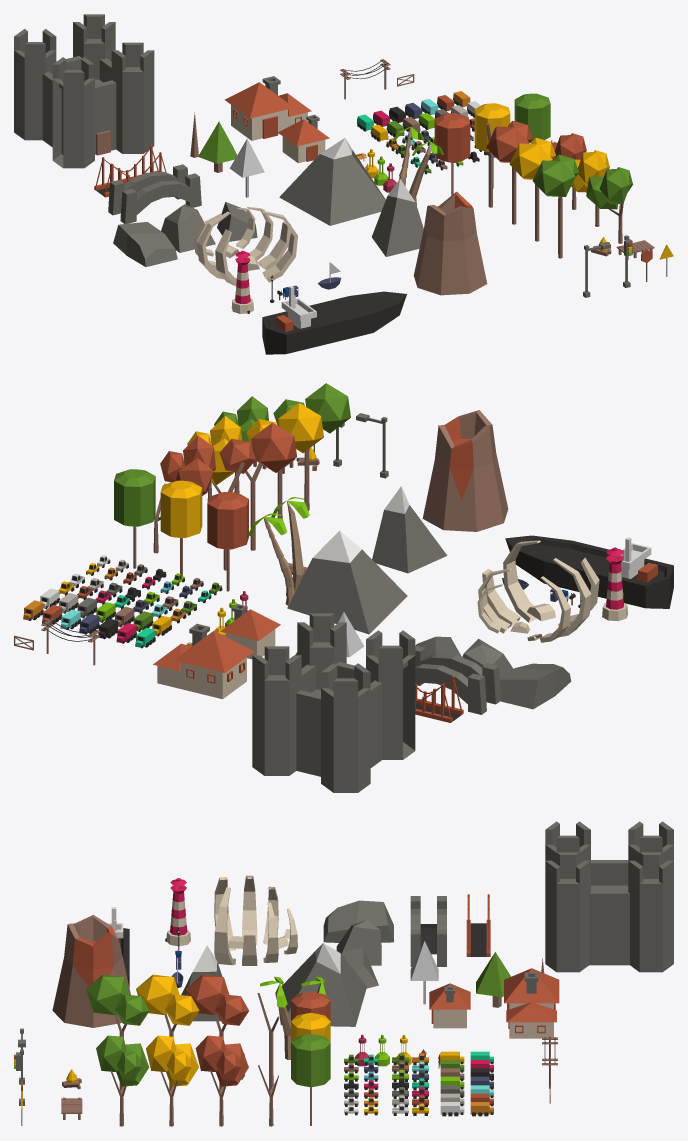
Rendered from exteriors.obj.
3 renders of one model, top to bottom at view 1: azimuth 30°, elevation 25°; view 2: azimuth 150°, elevation 25°; view 3: azimuth 270°, elevation 25°, orthographic. The views are drawn at different scales.
Parts seen in each view (by area): view 1: castle_Cube.013, cargoShip_Cube.007, volcano_Cylinder.017, mountain_Cube.148, ribcage_Cube.146, bigHouse_Cube.035, oldBridge_Cube.150, mountain.001_Cube.149, rock3_Cube.004, neatTree.002_Cube.144, treeGreen1_Cylinder.001, treeGreen2_Cylinder.003 (+14 smaller); view 2: castle_Cube.013, volcano_Cylinder.017, mountain_Cube.148, cargoShip_Cube.007, ribcage_Cube.146, bigHouse_Cube.035, mountain.001_Cube.149, oldBridge_Cube.150, treeOrange1_Cylinder.009, rock3_Cube.004, neatTree_Cube.142, neatTree.002_Cube.144 (+12 smaller); view 3: castle_Cube.013, volcano_Cylinder.017, ribcage_Cube.146, mountain_Cube.148, bigHouse_Cube.035, treeGreen1_Cylinder.001, treeOrange2_Cylinder.008, tree2Yellow_Cylinder.004, treeGreen2_Cylinder.003, treeYellow1_Cylinder.005, treeOrange1_Cylinder.009, neatTree_Cube.142 (+14 smaller).
Part boxes in pixels (left/top/right/bottom): castle_Cube.013: left=14, top=14, right=154, bottom=168; cargoShip_Cube.007: left=262, top=286, right=406, bottom=354; volcano_Cylinder.017: left=413, top=191, right=487, bottom=295; mountain_Cube.148: left=279, top=138, right=385, bottom=225; ribcage_Cube.146: left=193, top=207, right=297, bottom=286; bigHouse_Cube.035: left=224, top=76, right=311, bottom=140; oldBridge_Cube.150: left=108, top=164, right=201, bottom=223; mountain.001_Cube.149: left=372, top=179, right=423, bottom=256; rock3_Cube.004: left=113, top=222, right=177, bottom=266; neatTree.002_Cube.144: left=434, top=113, right=470, bottom=195; treeGreen1_Cylinder.001: left=532, top=154, right=579, bottom=258; treeGreen2_Cylinder.003: left=586, top=167, right=632, bottom=243; castle_Cube.013: left=252, top=613, right=415, bottom=792; volcano_Cylinder.017: left=422, top=410, right=508, bottom=531; mountain_Cube.148: left=287, top=530, right=407, bottom=634; cargoShip_Cube.007: left=505, top=535, right=673, bottom=608; ribcage_Cube.146: left=477, top=540, right=599, bottom=642; bigHouse_Cube.035: left=153, top=623, right=254, bottom=699; mountain.001_Cube.149: left=372, top=486, right=447, bottom=573; oldBridge_Cube.150: left=415, top=645, right=501, bottom=714; treeOrange1_Cylinder.009: left=219, top=422, right=296, bottom=550; rock3_Cube.004: left=500, top=663, right=571, bottom=709; neatTree_Cube.142: left=114, top=469, right=155, bottom=568; neatTree.002_Cube.144: left=207, top=492, right=248, bottom=591; castle_Cube.013: left=545, top=821, right=673, bottom=972; volcano_Cylinder.017: left=52, top=915, right=130, bottom=1027; ribcage_Cube.146: left=214, top=875, right=297, bottom=965; mountain_Cube.148: left=278, top=943, right=366, bottom=1026; bigHouse_Cube.035: left=504, top=968, right=559, bottom=1038; treeGreen1_Cylinder.001: left=86, top=974, right=149, bottom=1090; treeOrange2_Cylinder.008: left=195, top=1035, right=248, bottom=1126; tree2Yellow_Cylinder.004: left=146, top=1035, right=198, bottom=1126; treeGreen2_Cylinder.003: left=96, top=1035, right=149, bottom=1126; treeYellow1_Cylinder.005: left=136, top=974, right=199, bottom=1090; treeOrange1_Cylinder.009: left=186, top=974, right=248, bottom=1090; neatTree_Cube.142: left=291, top=1034, right=330, bottom=1125.
Bounding box in the file's own units: 4.98 × 1.5 × 6.62.
3 materials, 2 textured.
